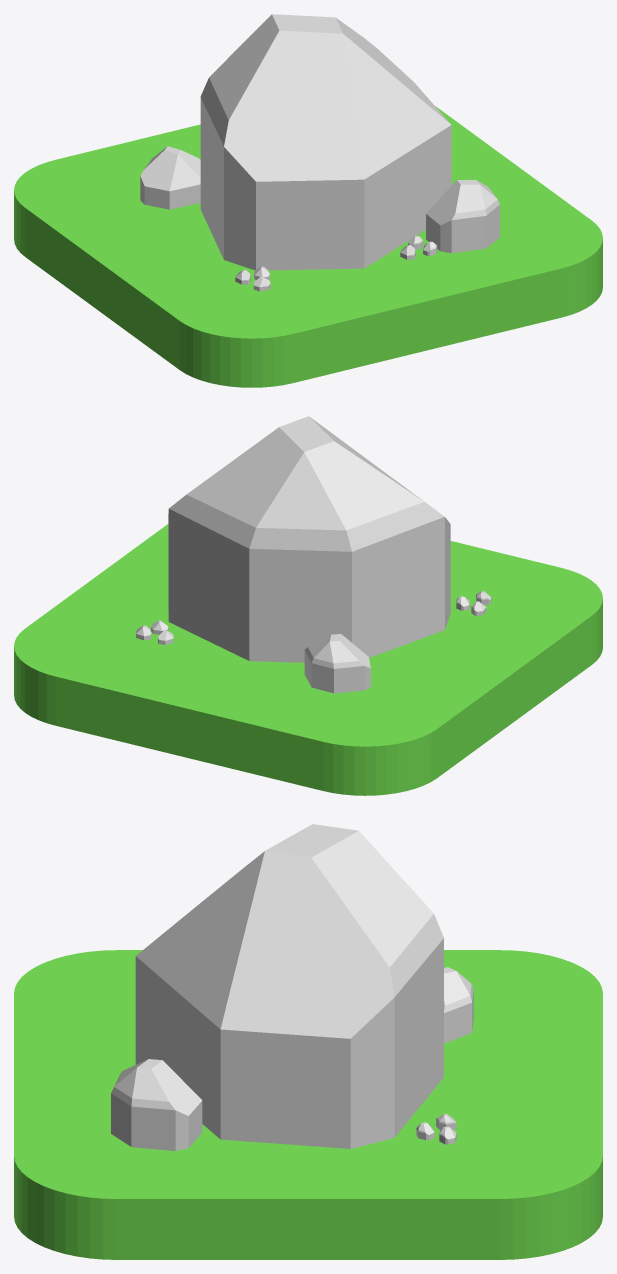
The model's file is ZHIROBASY.fbx.
The picture shows the model from 3 angles, top to bottom: view 1: azimuth 30°, elevation 25°; view 2: azimuth 150°, elevation 25°; view 3: azimuth 270°, elevation 25°; orthographic projection. The views are drawn at different scales.
Visible parts, largest first — view 1: Cube, Cube.001, Cube.002, Cube.003; view 2: Cube, Cube.001, Cube.003; view 3: Cube, Cube.001, Cube.002, Cube.003.
Boxes of the visible parts, x1,y1,x2,y2 form: Cube: (14,106,602,387); Cube.001: (200,14,451,270); Cube.002: (426,179,499,253); Cube.003: (140,146,200,209); Cube: (14,524,602,795); Cube.001: (168,416,450,662); Cube.003: (304,634,370,693); Cube: (14,950,602,1259); Cube.001: (135,824,443,1148); Cube.002: (111,1059,202,1150); Cube.003: (444,967,473,1043).
Size of the model in its own units: 200 by 111 by 200.
